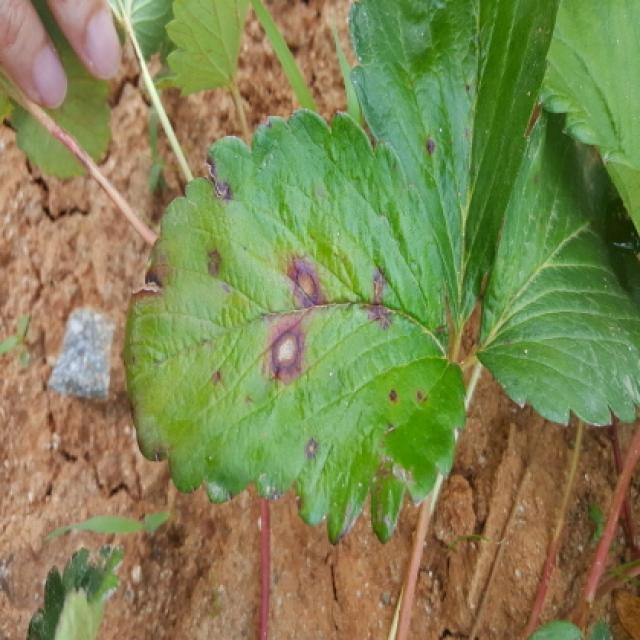Leaf Spot: (121, 107, 468, 547), (347, 0, 561, 337), (474, 106, 640, 427)
